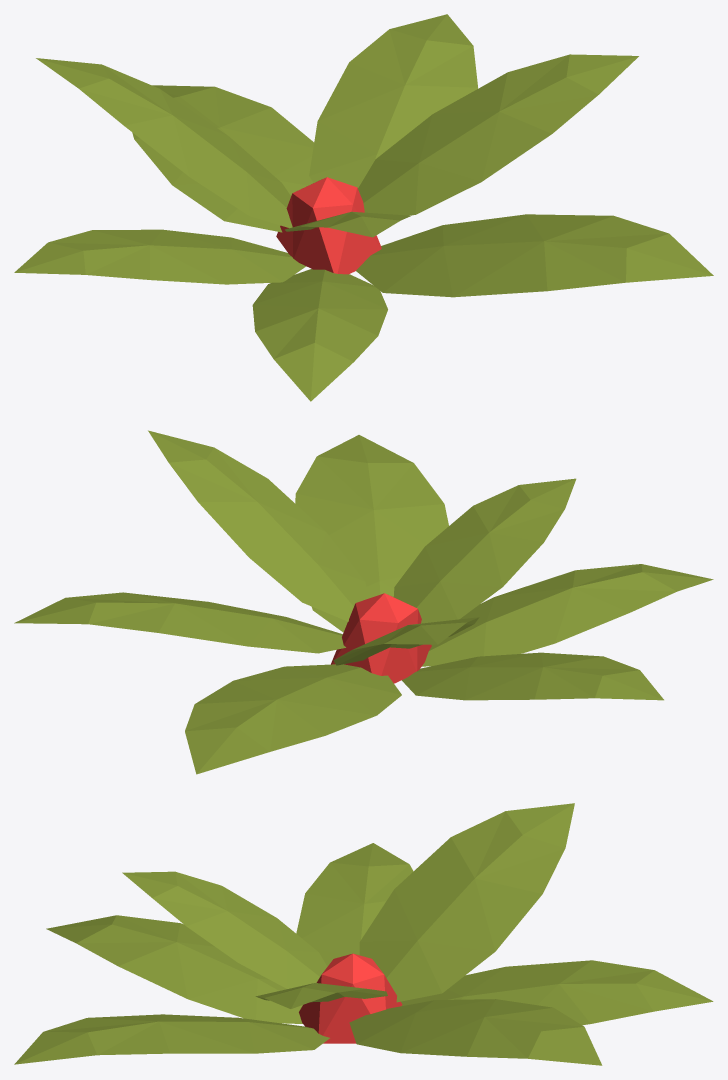
Rendered from island_plant_4.fbx.
3 views of the same model, one above another, from view 1: azimuth 30°, elevation 25°; view 2: azimuth 150°, elevation 25°; view 3: azimuth 270°, elevation 25° (orthographic). The views are drawn at different scales.
Parts seen in each view (by area): view 1: Plane.014; view 2: Plane.014; view 3: Plane.014.
Part boxes in pixels (x1=…): Plane.014: x1=14, y1=14, x2=713, y2=401; Plane.014: x1=14, y1=430, x2=713, y2=774; Plane.014: x1=14, y1=803, x2=713, y2=1065.
Size of the model in its own units: 2.02 by 0.5241 by 2.24.
